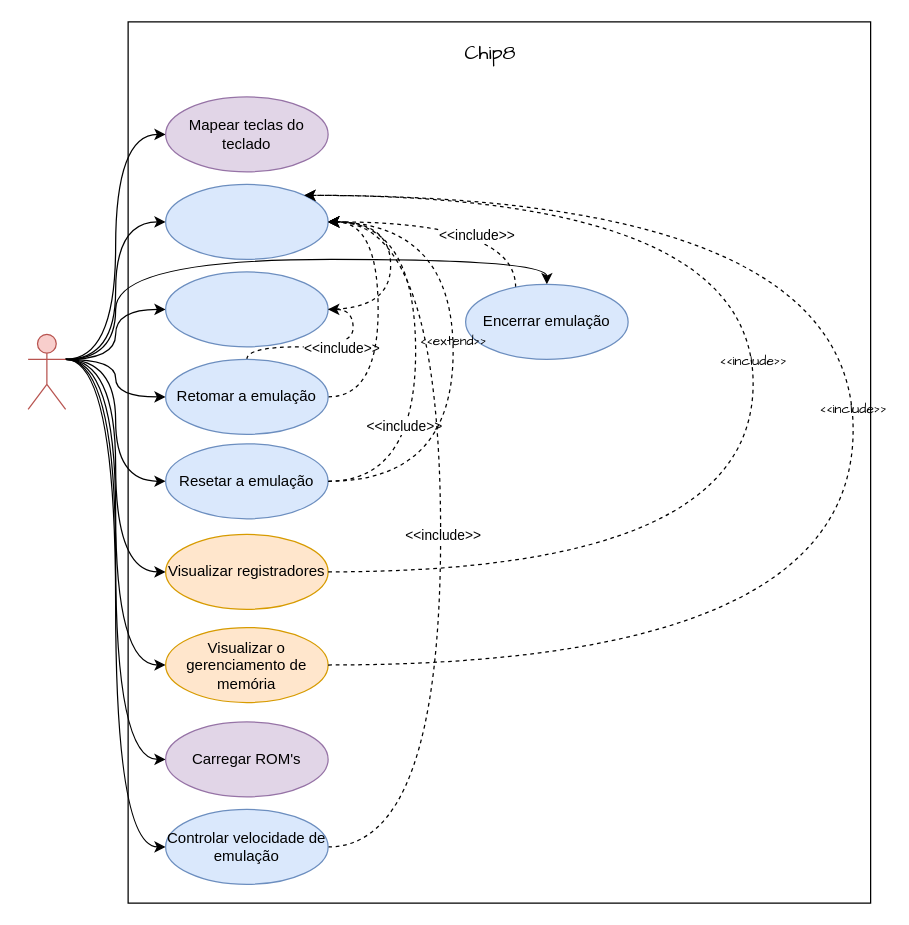
Image size: 909x925. Some labels were removed from this diagram. Each missing label, with the box of its shape:
Iniciar a emulação: (164, 183, 328, 259)
Pausar a emulação: (164, 271, 328, 347)
Usuário: (27, 333, 66, 409)
